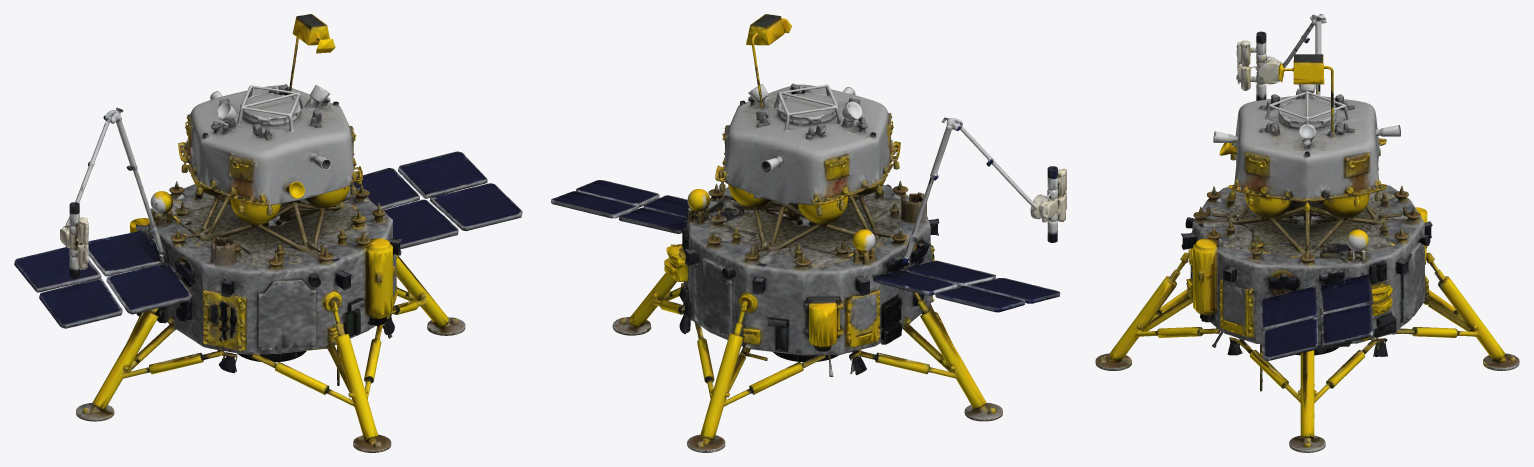
Rendered from change5.glb.
3 views of the same model, side by side, from view 1: azimuth 30°, elevation 25°; view 2: azimuth 150°, elevation 25°; view 3: azimuth 270°, elevation 25° (orthographic). The views are drawn at different scales.
Size of the model in its own units: 1.9 by 1.37 by 1.58.
1 material, 1 textured.
